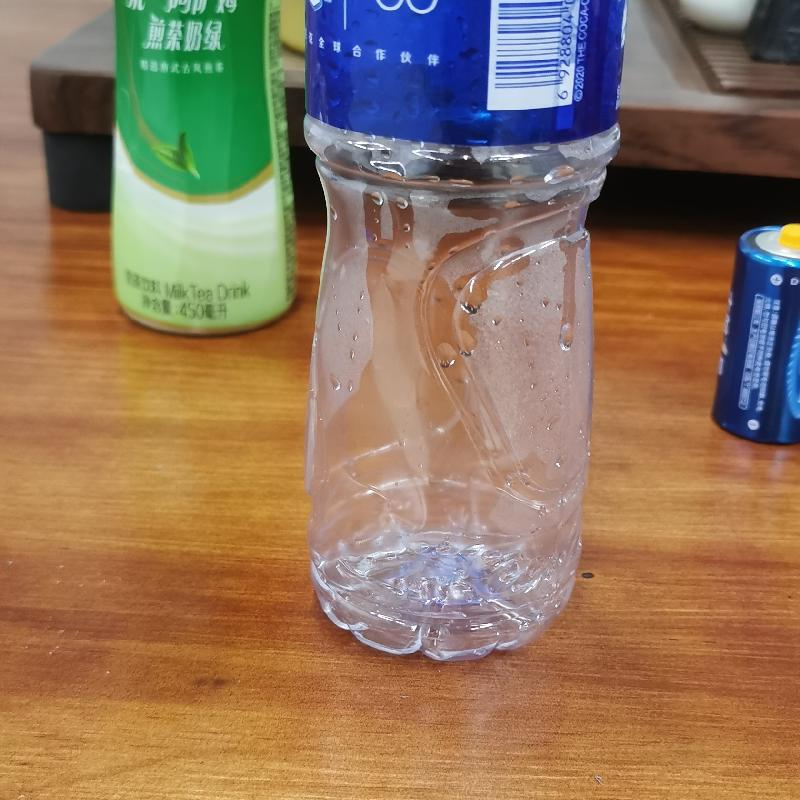bottles: (295, 3, 627, 663)
